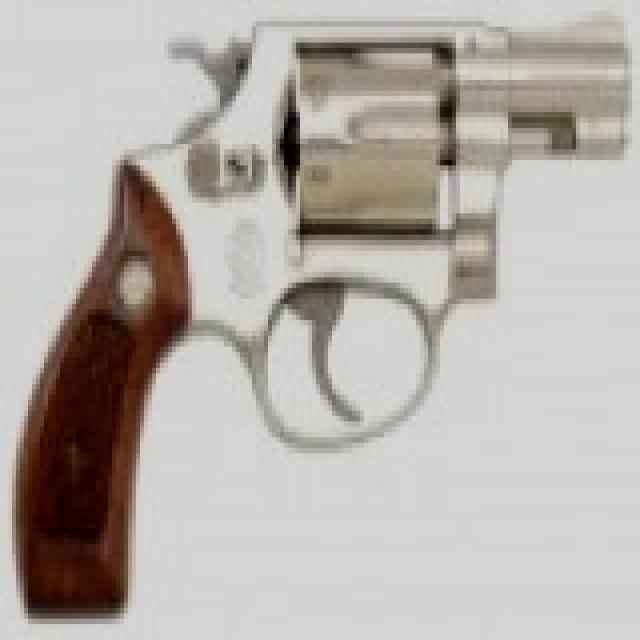pistol: (20, 0, 628, 635)
